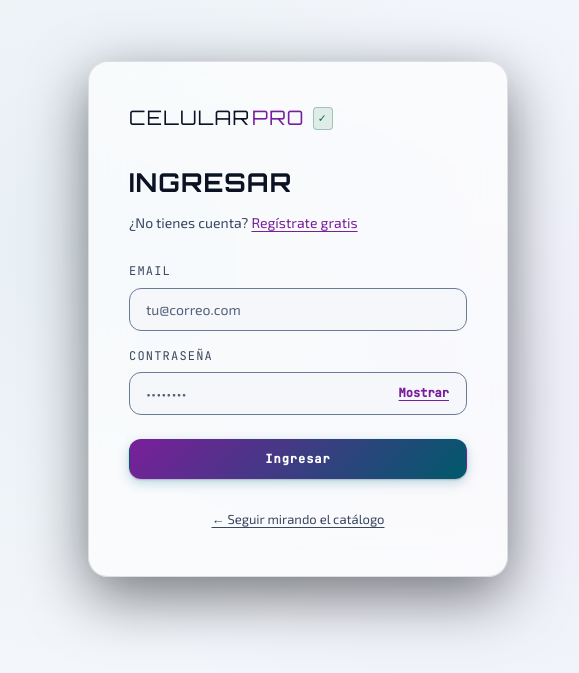
Test: Login — validación del esquema del formulario › muestra "La contraseña es requerida" si el password está vacío
Step 1. Type "user@gmail.com" into the field labelled "Email" → coordinates (298, 309), box [129, 288, 467, 331]
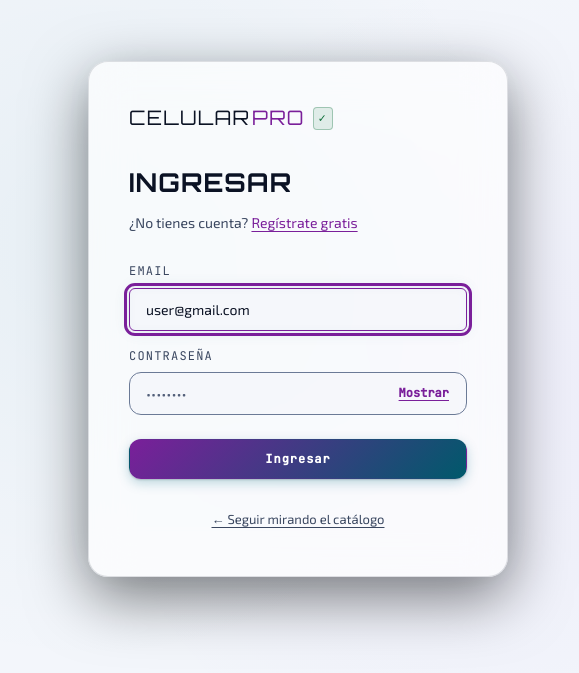
Step 2. Click the button "Ingresar" → coordinates (298, 459), box [129, 439, 467, 479]
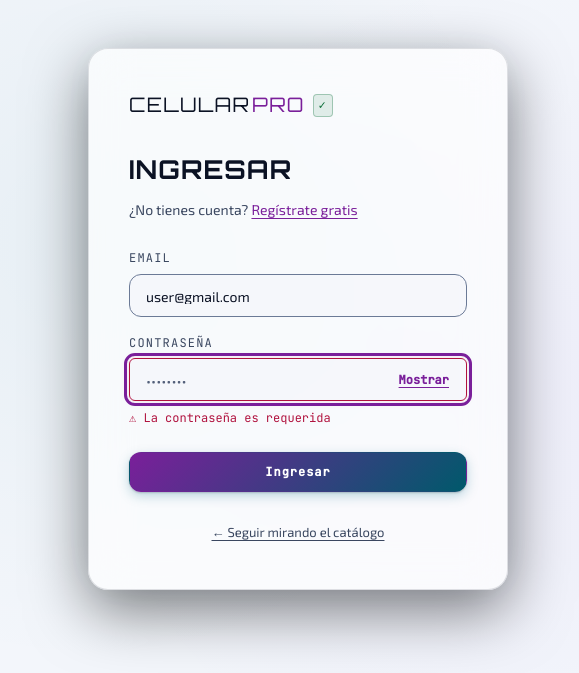
Now the text "La contraseña es requerida" is shown, box [143, 410, 331, 426]
